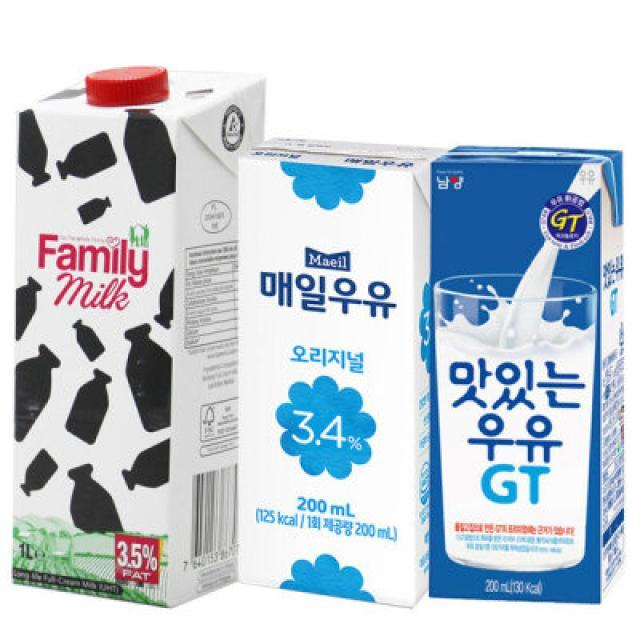Tetra: (8, 62, 273, 606), (227, 123, 446, 632), (419, 130, 640, 624)
